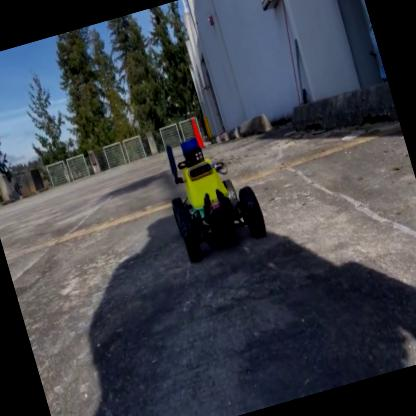cone: (190, 114, 206, 148)
mushr_car: (153, 126, 271, 264)
